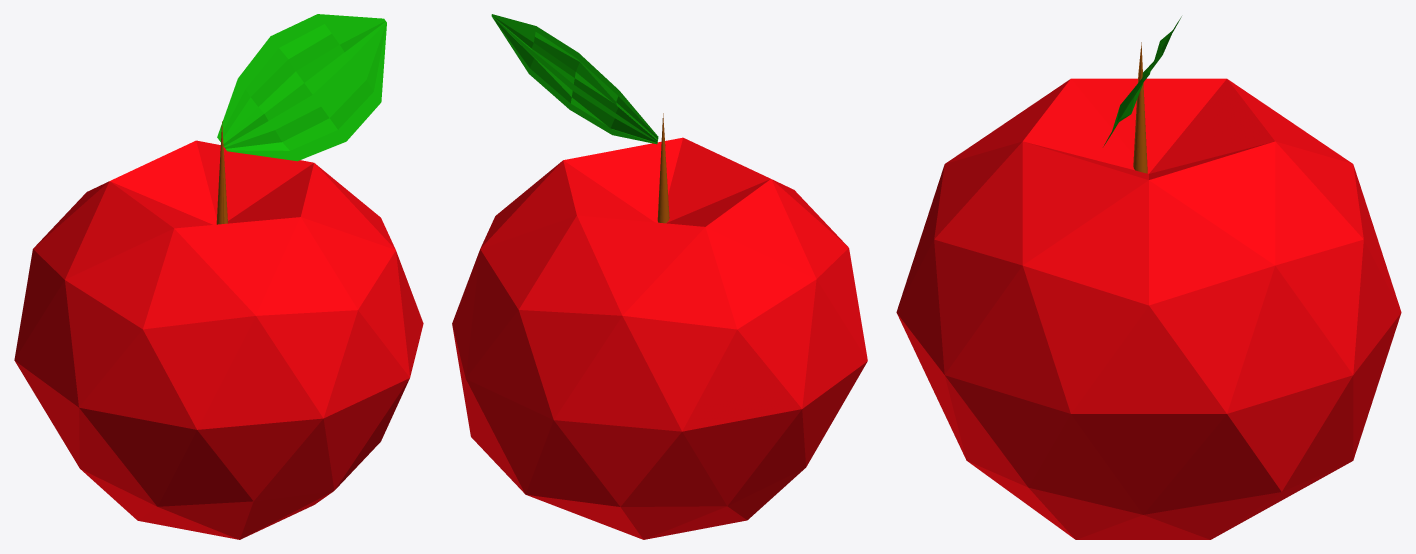
The model's file is Apple.fbx.
The picture shows the model from 3 angles, left to right: view 1: azimuth 30°, elevation 25°; view 2: azimuth 150°, elevation 25°; view 3: azimuth 270°, elevation 25°; orthographic projection. The views are drawn at different scales.
Parts seen in each view (by area): view 1: Maçã.003; view 2: Maçã.003; view 3: Maçã.003.
Part boxes in pixels (box(x1,y1,x2,y2)): Maçã.003: box(14, 14, 423, 539); Maçã.003: box(452, 14, 867, 539); Maçã.003: box(896, 16, 1401, 539).
Bounding box in the file's own units: 1.18 × 1.55 × 1.24.
